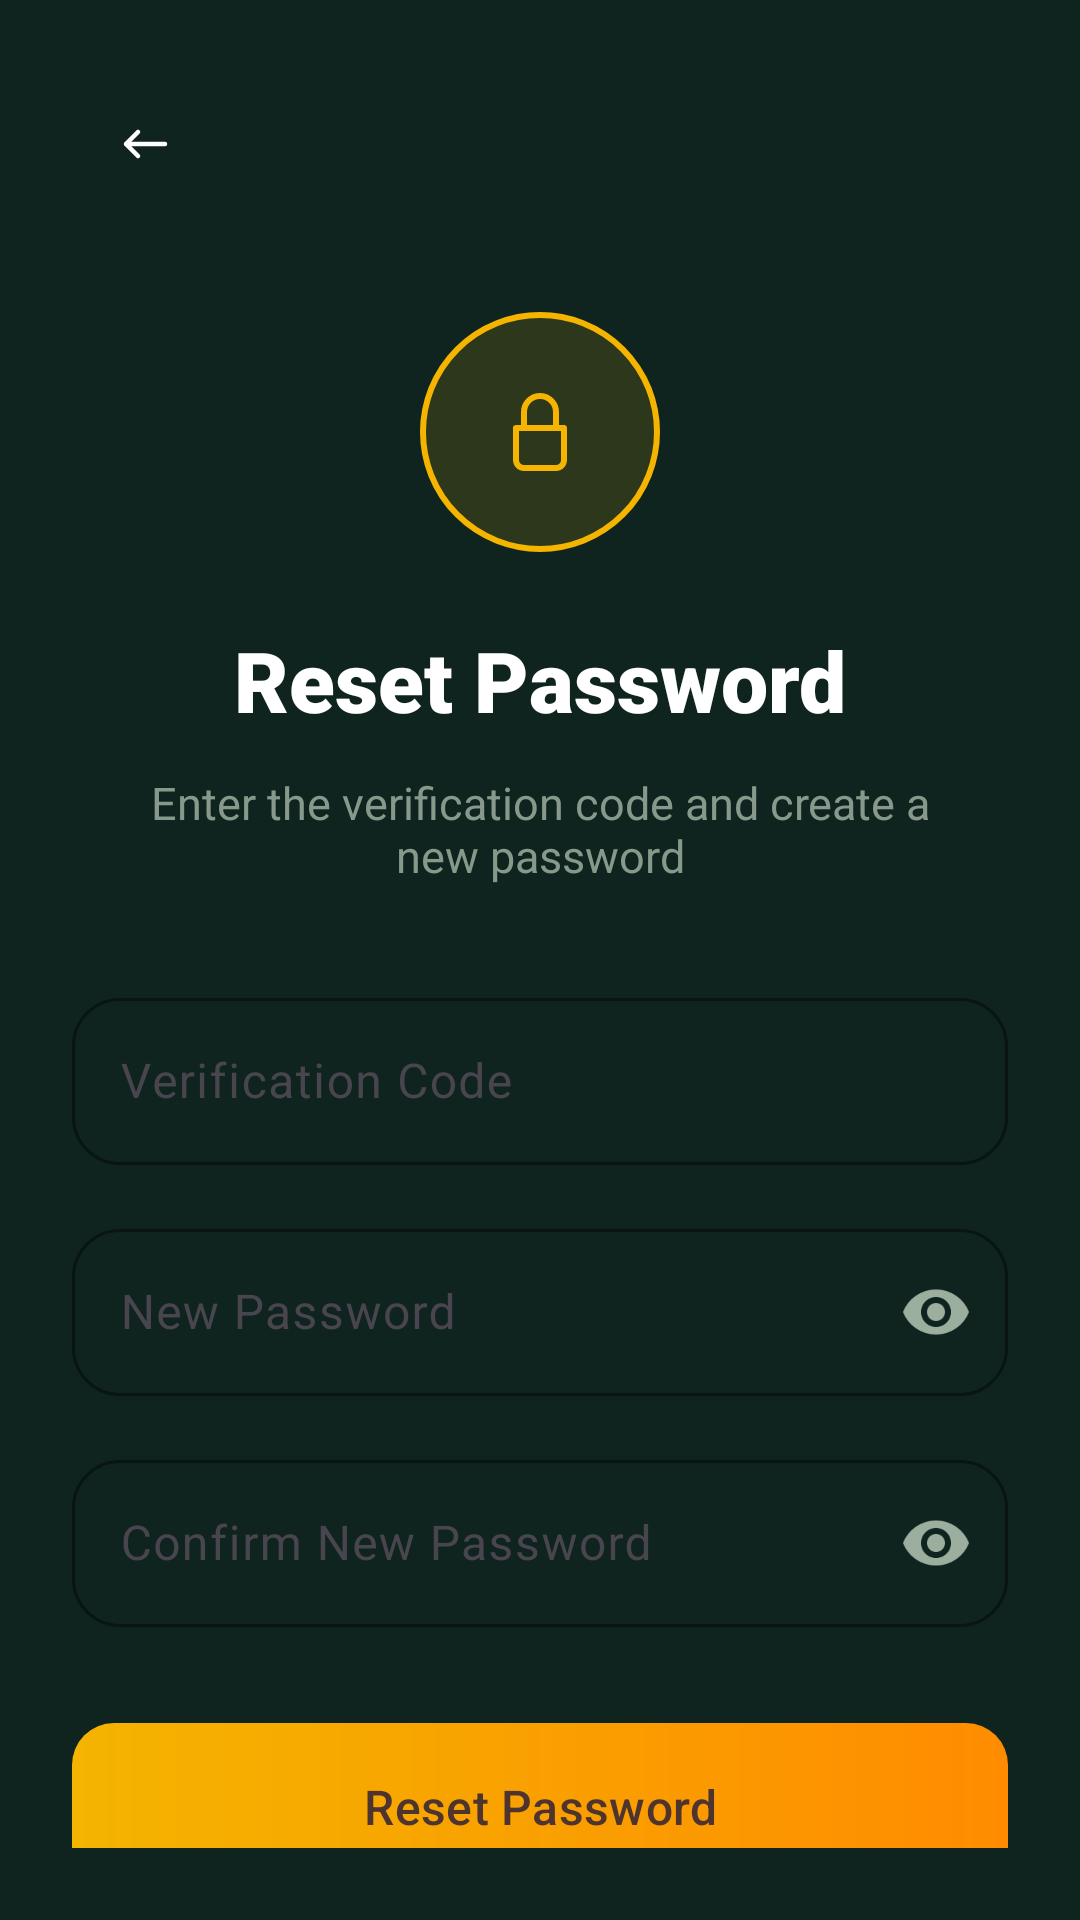

Icons on this 1080px×1920px Android screen, each with the point to tap as point (x, y):
Go back: point (145, 144)
